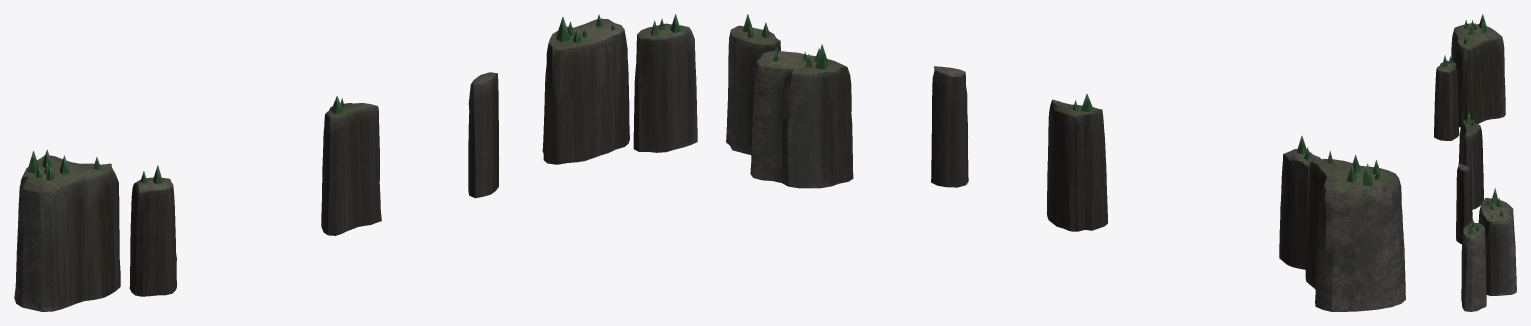
The model's file is decor.glb.
The picture shows the model from 3 angles, left to right: view 1: azimuth 30°, elevation 25°; view 2: azimuth 150°, elevation 25°; view 3: azimuth 270°, elevation 25°; orthographic projection. The views are drawn at different scales.
Visible parts, largest first — view 1: decor; view 2: decor; view 3: decor.
Boxes of the visible parts, <box> form: decor: <box>14,14,697,311</box>; decor: <box>726,14,1405,311</box>; decor: <box>1434,14,1516,311</box>.
Bounding box in the file's own units: 10.37 × 2.06 × 1.69.
2 materials, 2 textured.
